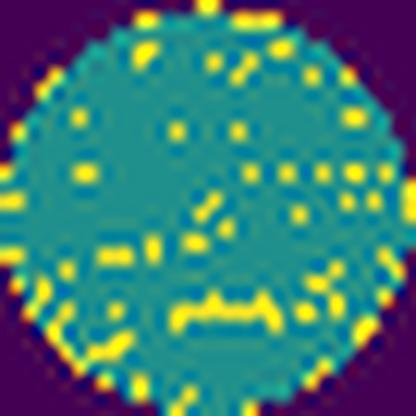Scratch: (168, 290, 284, 344)
